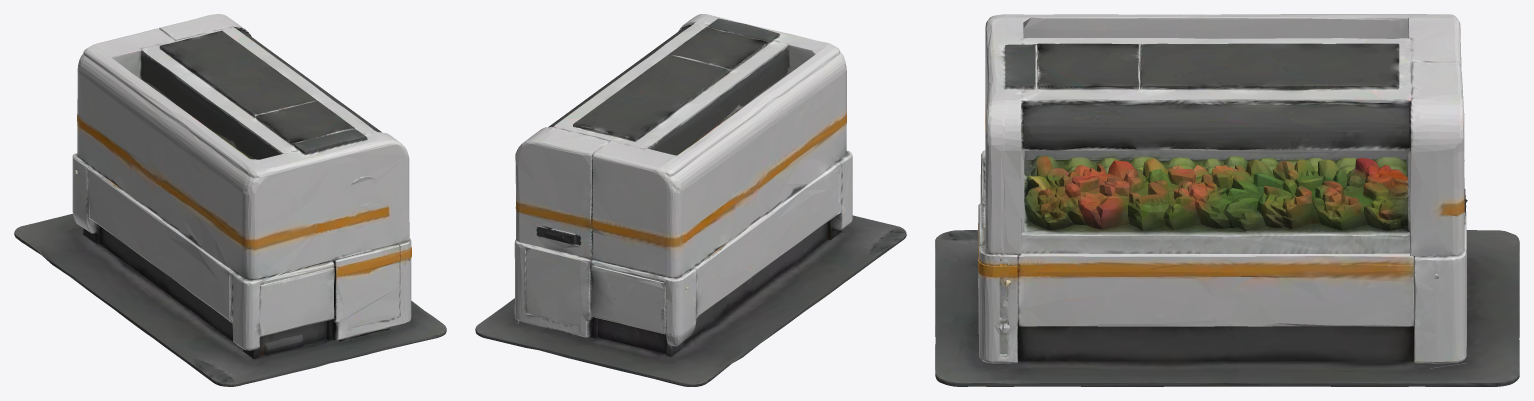
The model's file is compact-hydroponic-planter-optimized.glb.
3 renders of one model, left to right at view 1: azimuth 30°, elevation 25°; view 2: azimuth 150°, elevation 25°; view 3: azimuth 270°, elevation 25°, orthographic. The views are drawn at different scales.
Visible parts, largest first — view 1: tripo_node_d626214d-9963-496a-9947-625d3d78e842; view 2: tripo_node_d626214d-9963-496a-9947-625d3d78e842; view 3: tripo_node_d626214d-9963-496a-9947-625d3d78e842.
Part boxes in pixels (x1,y1,x2,y2): tripo_node_d626214d-9963-496a-9947-625d3d78e842: (14, 14, 446, 386); tripo_node_d626214d-9963-496a-9947-625d3d78e842: (475, 14, 906, 386); tripo_node_d626214d-9963-496a-9947-625d3d78e842: (935, 14, 1519, 386).
Bounding box in the file's own units: 0.618 × 0.4968 × 1.
Materials: 1 (1 with a texture image).
